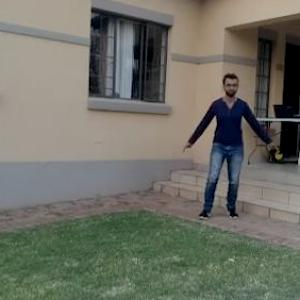land: (177, 79, 269, 226)
